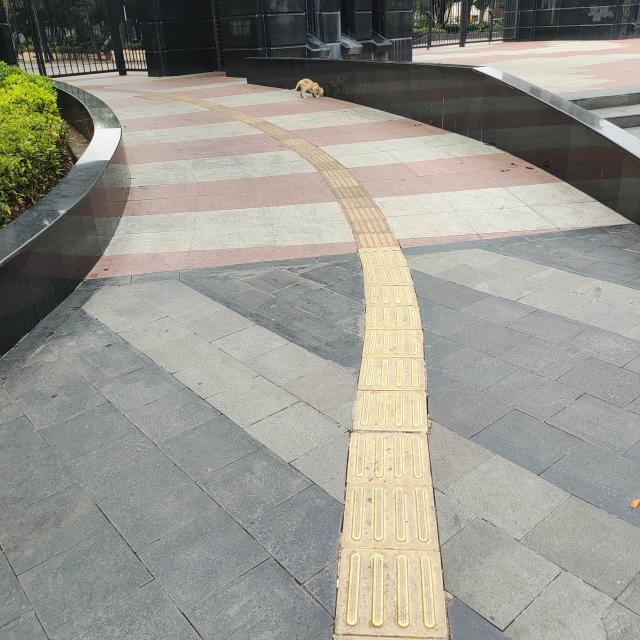lurus: (317, 229, 466, 640)
